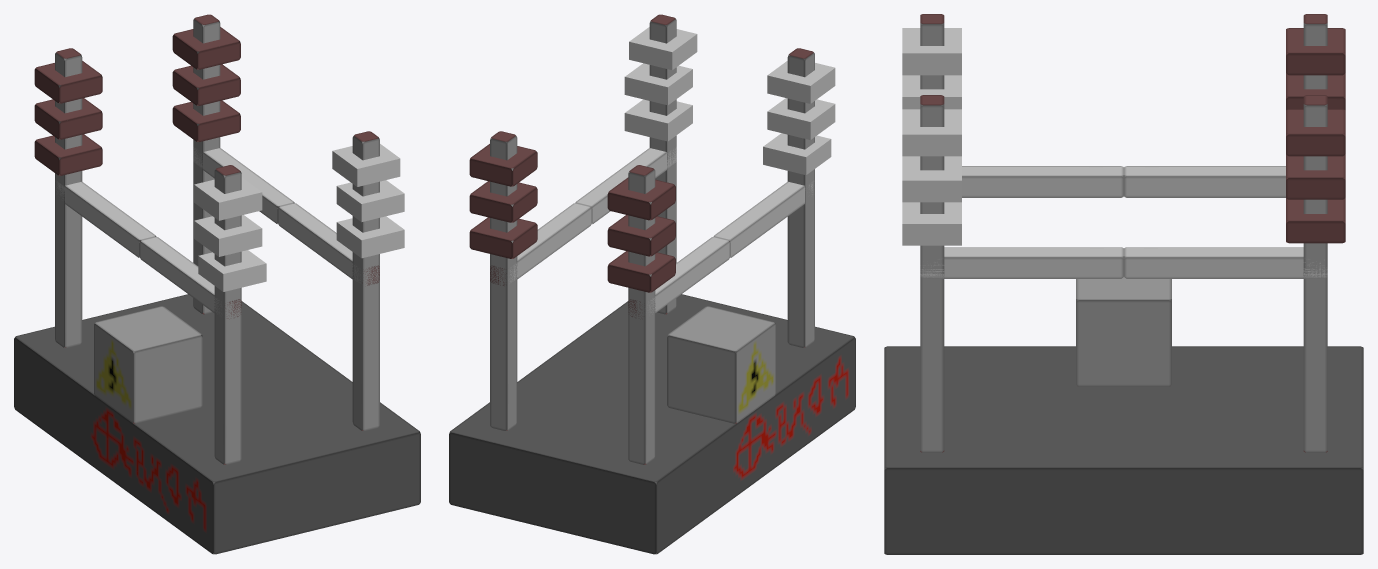
Rendered from GridSwitch.obj.
3 renders of one model, left to right at view 1: azimuth 30°, elevation 25°; view 2: azimuth 150°, elevation 25°; view 3: azimuth 270°, elevation 25°, orthographic. The views are drawn at different scales.
Visible parts, largest first — view 1: main; view 2: main; view 3: main.
Part boxes in pixels (bbox=[...]): main: bbox=[14, 14, 420, 554]; main: bbox=[449, 14, 855, 554]; main: bbox=[884, 14, 1363, 554].
Size of the model in its own units: 3 by 5 by 5.
Materials: 2 (1 with a texture image).
